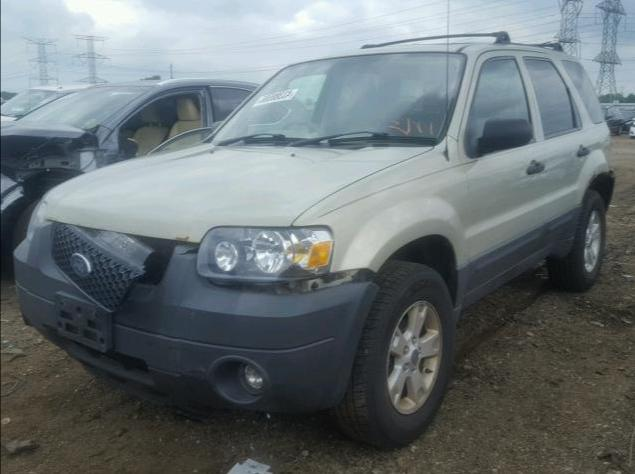Broken part: (52, 224, 151, 304), (195, 266, 385, 297), (122, 232, 199, 289)
Corrosion: (174, 236, 193, 242)
Missing part: (56, 292, 111, 351)
